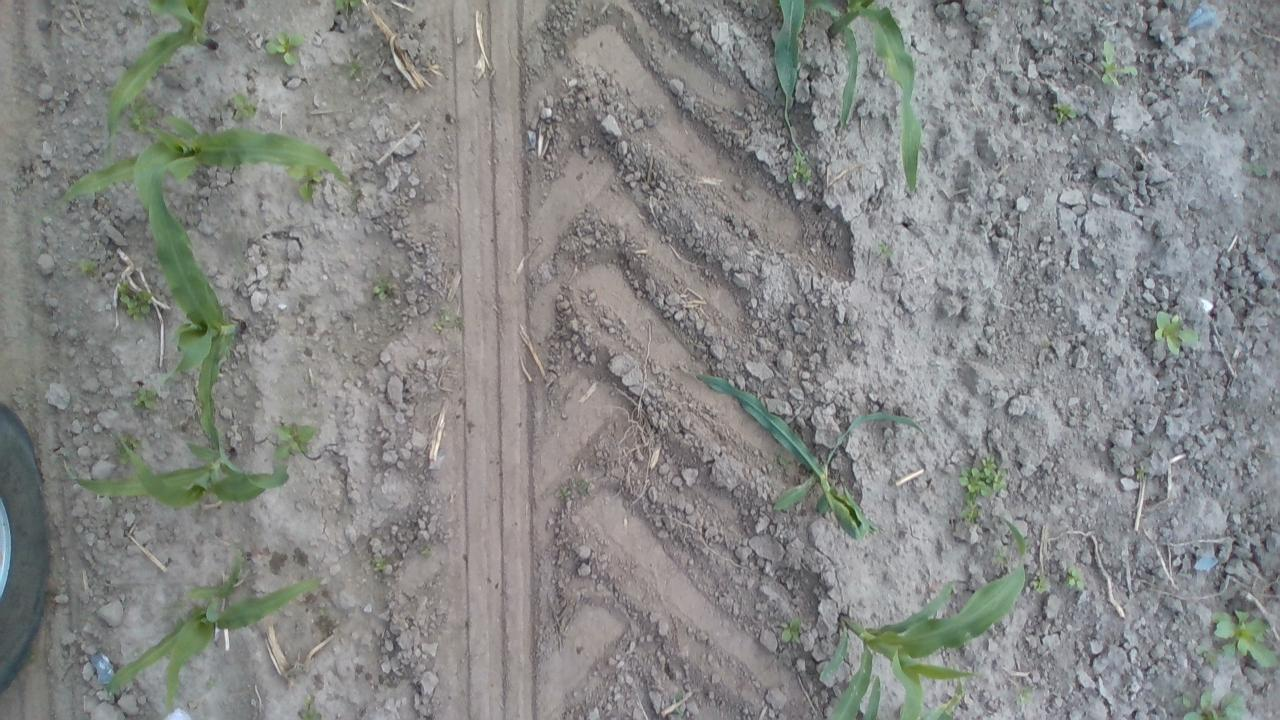Maize: (681, 368, 930, 541), (819, 519, 1028, 720), (31, 112, 357, 226), (103, 549, 329, 713), (148, 162, 242, 454), (808, 0, 922, 196), (100, 1, 222, 172), (61, 434, 292, 509), (776, 0, 808, 157), (889, 646, 922, 720), (926, 681, 964, 719), (866, 677, 881, 720)
Weeds: (1211, 608, 1279, 668), (961, 449, 1008, 528), (1154, 310, 1200, 357), (1182, 690, 1248, 720), (1100, 40, 1138, 88), (274, 424, 317, 460), (116, 280, 152, 321), (264, 30, 304, 66), (284, 166, 322, 203), (129, 98, 155, 134), (232, 90, 260, 122), (788, 150, 812, 184), (116, 431, 139, 465), (1052, 102, 1078, 127), (300, 694, 323, 720), (133, 388, 159, 411), (1194, 646, 1220, 668), (780, 616, 801, 643), (158, 601, 185, 622), (1063, 566, 1084, 592), (990, 543, 1011, 567), (1014, 686, 1036, 708), (1030, 574, 1052, 596), (1173, 688, 1196, 708), (374, 278, 391, 302), (345, 59, 364, 80), (878, 238, 894, 262), (572, 476, 590, 495), (334, 0, 360, 11), (437, 307, 454, 321), (372, 556, 386, 572), (204, 676, 220, 690), (78, 258, 92, 274), (554, 487, 570, 500), (432, 320, 446, 332), (454, 314, 464, 330), (1136, 468, 1148, 481), (672, 692, 684, 704), (420, 548, 432, 558), (676, 708, 685, 718), (1044, 340, 1052, 348), (1044, 0, 1050, 4)
